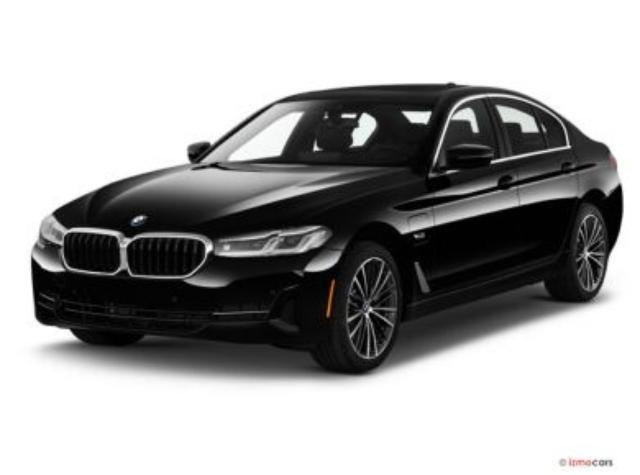bmw: (31, 83, 623, 376)
